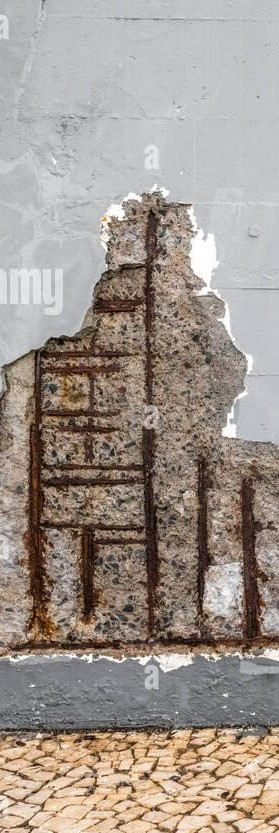Exposed reinforcement: (142, 210, 161, 635), (29, 351, 43, 634), (11, 638, 279, 652), (240, 477, 261, 638), (196, 461, 213, 622), (39, 521, 145, 533), (81, 527, 93, 623), (41, 461, 143, 472), (41, 475, 137, 486), (40, 349, 139, 358), (40, 363, 121, 374), (100, 263, 146, 281), (42, 424, 121, 434), (41, 409, 121, 418), (93, 537, 146, 545), (92, 298, 142, 306), (86, 373, 96, 410), (83, 434, 95, 464), (92, 306, 136, 314), (87, 417, 96, 426)
Spalling: (1, 180, 279, 667)
